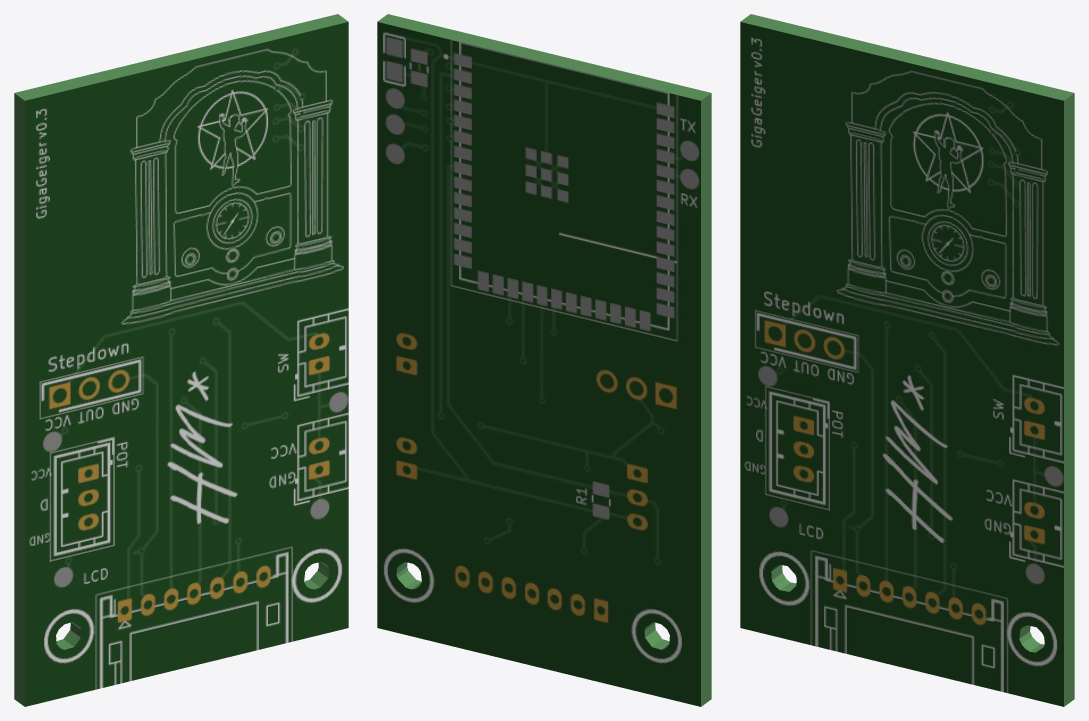
The model's file is gigageiger.glb.
3 renders of one model, left to right at view 1: azimuth 30°, elevation 25°; view 2: azimuth 150°, elevation 25°; view 3: azimuth 330°, elevation 25°, orthographic.
Visible parts, largest first — view 1: faces, edges; view 2: faces, edges; view 3: faces, edges.
Boxes of the visible parts, <box> form: faces: <box>25,22,348,706</box>; edges: <box>14,14,348,706</box>; faces: <box>377,22,700,706</box>; edges: <box>377,14,711,706</box>; faces: <box>740,22,1063,706</box>; edges: <box>740,14,1074,706</box>.
Size of the model in its own units: 0.0279 by 0.05 by 0.0016.
Materials: 2 (1 with a texture image).
